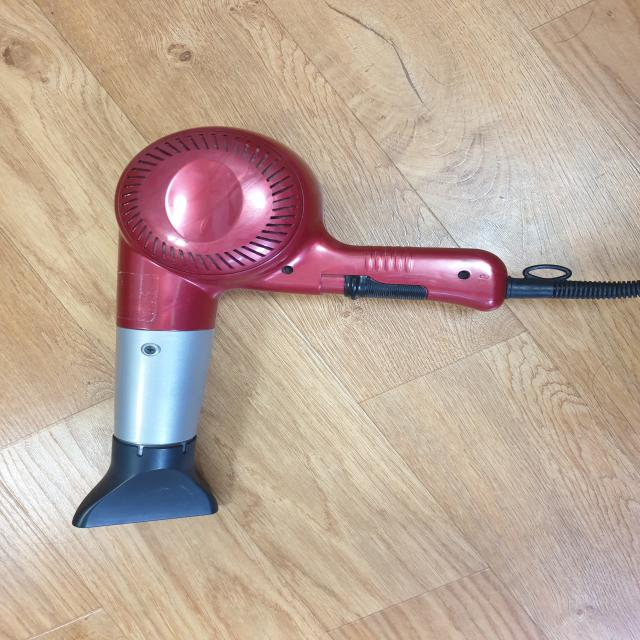dryer: (70, 125, 640, 529)
